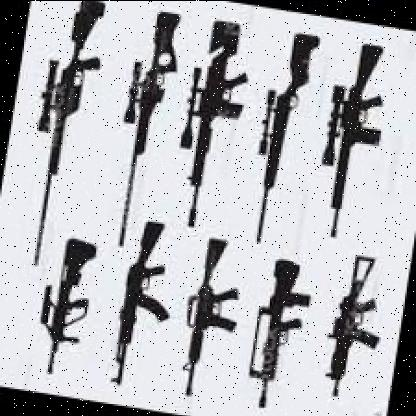rifle: (310, 244, 394, 416), (312, 51, 396, 222), (111, 8, 194, 180), (248, 28, 331, 200), (102, 218, 185, 390), (31, 214, 114, 386), (172, 233, 255, 404), (178, 23, 260, 194), (35, 0, 118, 167), (235, 249, 318, 416)
